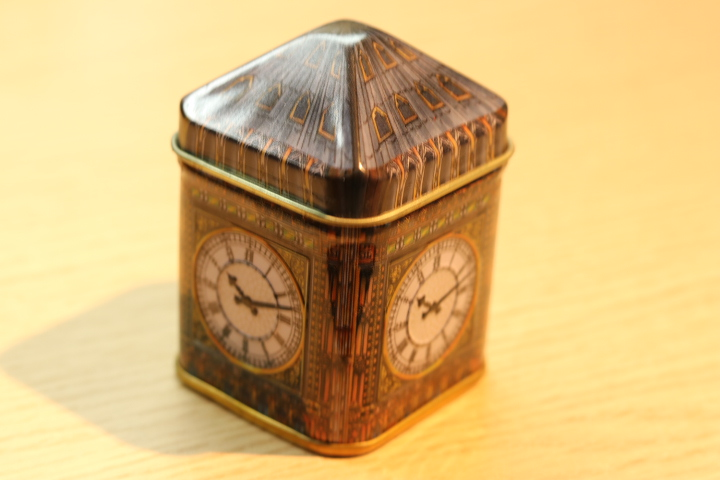Big Ben: (136, 6, 540, 470)
